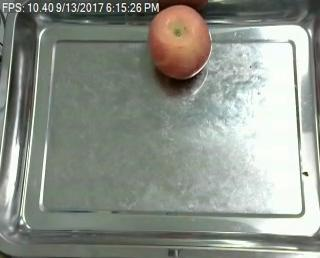apple: (152, 7, 213, 79)
